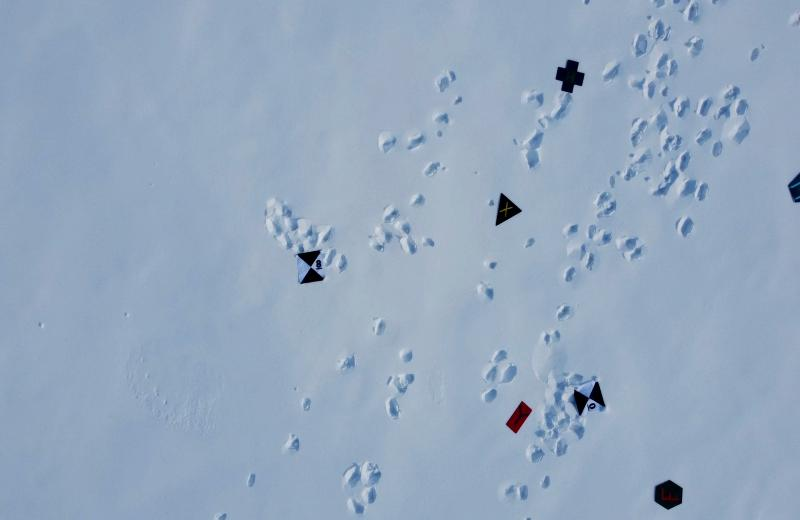Cross: (554, 60, 587, 96)
Hexagon: (653, 478, 685, 512)
Pentagon: (787, 173, 800, 207)
Rectangle: (504, 401, 533, 435)
Triangle: (494, 192, 524, 228)
